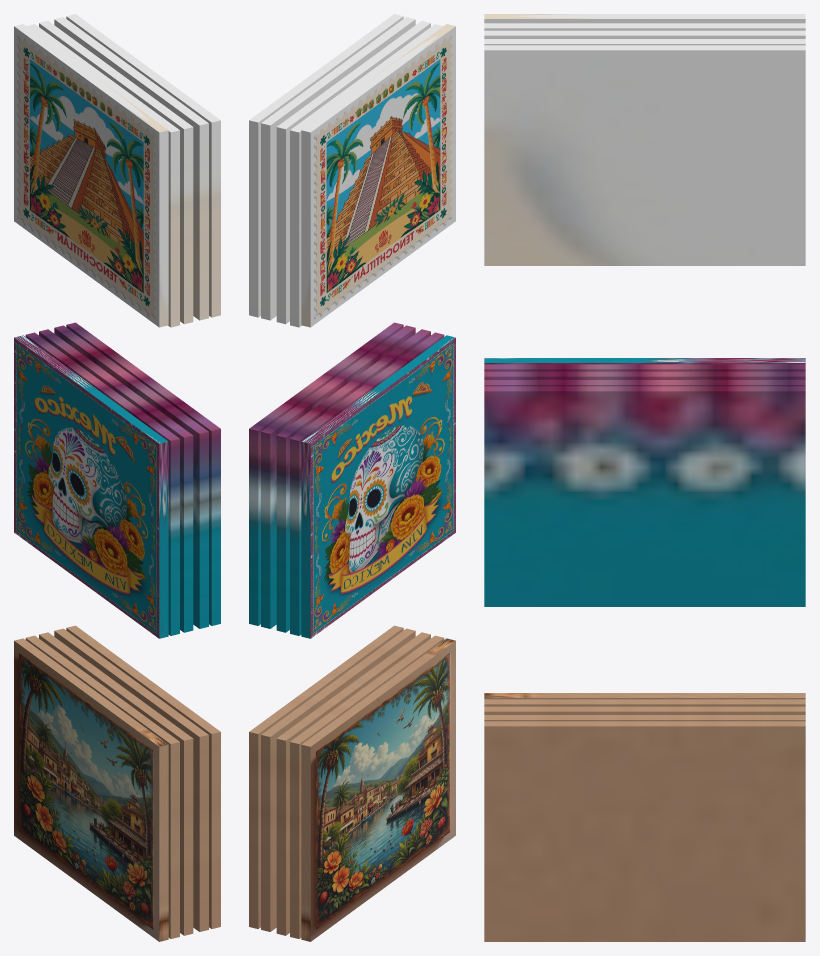
The model's file is Postales.obj.
3 views of the same model, side by side, from view 1: azimuth 30°, elevation 25°; view 2: azimuth 150°, elevation 25°; view 3: azimuth 270°, elevation 25° (orthographic). The views are drawn at different scales.
Visible parts, largest first — view 1: pCube5, pCube14, pCube10, pCube2, pCube7, pCube11, pCube8, pCube12, pCube3, sdsdsd, pCube1, sdsdsd1 (+3 smaller); view 2: pCube5, pCube14, pCube10, pCube2, pCube7, pCube11, pCube8, pCube12, pCube3, sdsdsd, pCube1, sdsdsd1 (+3 smaller); view 3: pCube1, sdsdsd, sdsdsd1, pCube14, pCube3, pCube8, pCube12, pCube4, pCube9, pCube13, pCube2, pCube5 (+3 smaller).
Part boxes in pixels (bbox=[...]): pCube5: bbox=[14, 638, 168, 941]; pCube14: bbox=[14, 24, 168, 327]; pCube10: bbox=[14, 335, 168, 638]; pCube2: bbox=[54, 628, 208, 931]; pCube7: bbox=[54, 325, 208, 628]; pCube11: bbox=[54, 17, 208, 320]; pCube8: bbox=[39, 329, 193, 632]; pCube12: bbox=[39, 21, 193, 324]; pCube3: bbox=[39, 632, 193, 935]; sdsdsd: bbox=[66, 322, 220, 625]; pCube1: bbox=[66, 625, 220, 928]; sdsdsd1: bbox=[66, 14, 220, 317]; pCube5: bbox=[301, 638, 455, 941]; pCube14: bbox=[301, 24, 455, 327]; pCube10: bbox=[301, 335, 455, 638]; pCube2: bbox=[261, 628, 415, 931]; pCube7: bbox=[261, 325, 415, 628]; pCube11: bbox=[261, 17, 415, 320]; pCube8: bbox=[276, 329, 430, 632]; pCube12: bbox=[276, 21, 430, 324]; pCube3: bbox=[276, 632, 430, 935]; sdsdsd: bbox=[249, 322, 403, 625]; pCube1: bbox=[249, 625, 403, 928]; sdsdsd1: bbox=[249, 14, 403, 317]; pCube1: bbox=[484, 721, 805, 941]; sdsdsd: bbox=[484, 386, 805, 606]; sdsdsd1: bbox=[484, 45, 805, 265]; pCube14: bbox=[484, 14, 805, 23]; pCube3: bbox=[484, 706, 805, 714]; pCube8: bbox=[484, 371, 805, 379]; pCube12: bbox=[484, 30, 805, 38]; pCube4: bbox=[484, 699, 805, 706]; pCube9: bbox=[484, 364, 805, 371]; pCube13: bbox=[484, 23, 805, 30]; pCube2: bbox=[484, 715, 805, 721]; pCube5: bbox=[484, 693, 805, 699].
Size of the model in its own units: 0.0331 by 0.415 by 0.135.
3 materials, 3 textured.
